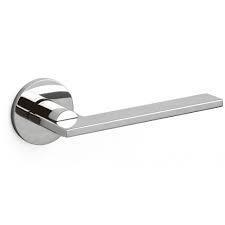doorhandle: (11, 65, 225, 160)
